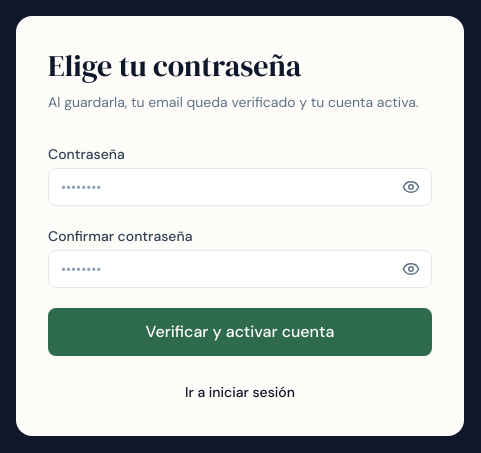
VerifyEmailPage › envía el token con la contraseña elegida y muestra el éxito
The image size is (481, 453).
In the password field labelled "Contraseña": (240, 187) [48, 168, 432, 206], type "Password123!"
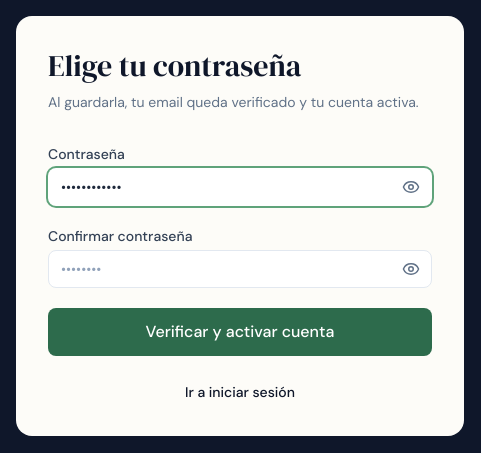
In the password field labelled "Confirmar contraseña": (240, 269) [48, 250, 432, 288], type "Password123!"
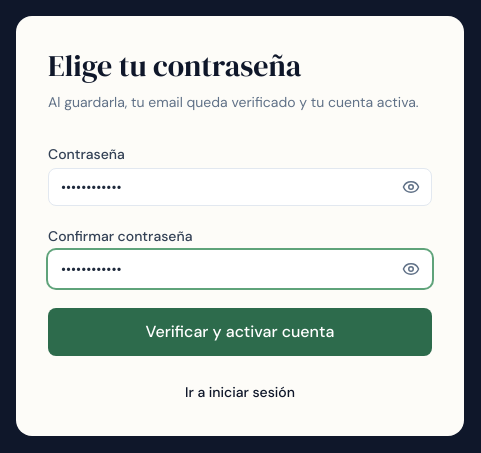
Click the button "Verificar y activar cuenta": click(240, 332) [48, 308, 432, 356]
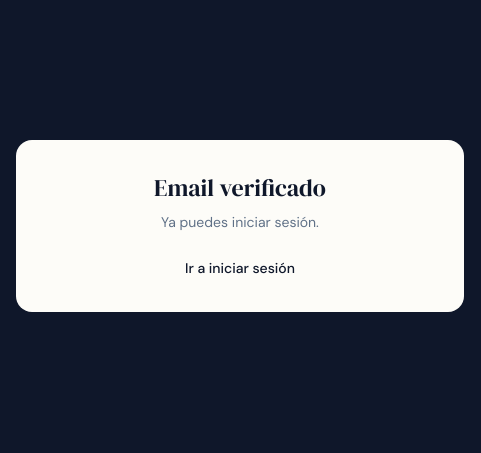
Expected: the heading "Email verificado" is shown, [154, 171, 326, 204]
